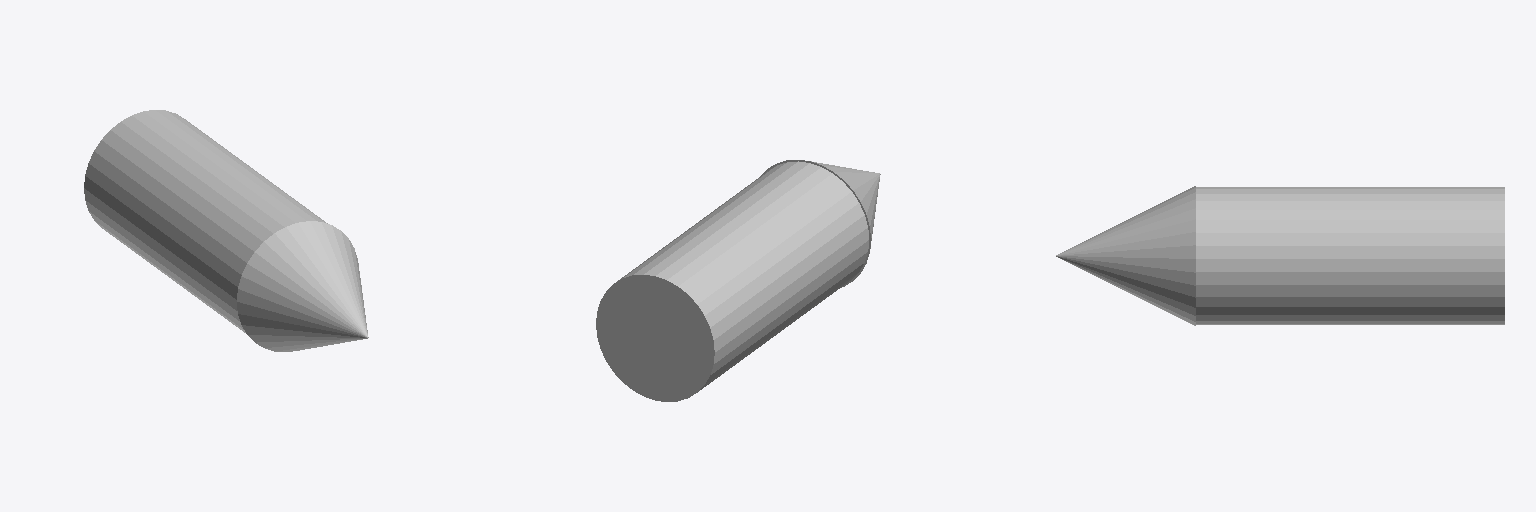
File: fkp.obj
3 renders of one model, left to right at view 1: azimuth 30°, elevation 25°; view 2: azimuth 150°, elevation 25°; view 3: azimuth 270°, elevation 25°, orthographic.
Visible parts, largest first — view 1: 锥体; view 2: 锥体; view 3: 锥体.
Boxes of the visible parts, <box> form: 锥体: <box>84,110,368,351</box>; 锥体: <box>596,160,880,401</box>; 锥体: <box>1056,186,1504,325</box>.
Bounding box in the file's own units: 2 × 2 × 6.37.